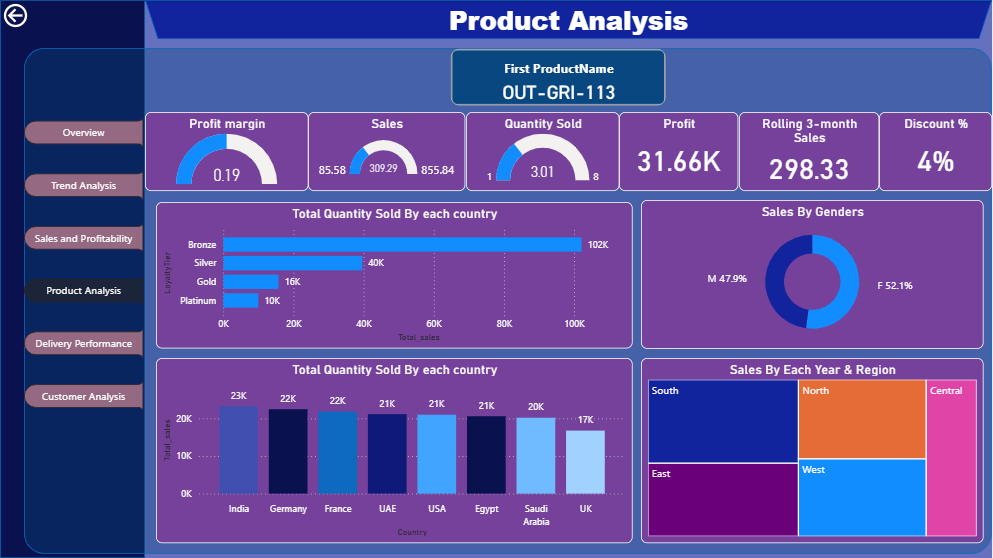

This screenshot's page, from the dashboard's own definition file:
{"tool":"powerbi","page":{"name":"Product Analysis","canvas":[1280,720],"ordinal":3},"visuals":[{"type":"shape","box":[0,0,187.1,720.2],"z":0},{"type":"shape","box":[31.4,61.3,1248.6,652.6],"z":1000},{"type":"pageNavigator","box":[31.4,141.5,154.1,402.6],"z":2000},{"type":"gauge","title":"Profit margin","fields":{"Y":["Measure.Profit_margin"]},"box":[187.1,144.7,210.7,102.2],"z":3000},{"type":"columnChart","title":"Total Quantity Sold By each country","fields":{"Category":["DimGeography.Country"],"Y":["Measure.Total_quantity"]},"box":[201.3,462.3,614.8,239],"z":4000},{"type":"treemap","title":"Sales By Each Year & Region","fields":{"Values":["select","Measure.Total_sales"],"Group":["DimGeography.Region"]},"box":[827.1,462.3,441.9,239],"z":5000},{"type":"shape","box":[187.1,0,1092.9,50.3],"z":6000},{"type":"cardVisual","title":"Drill through Prodcuct","fields":{"Data":["Min(DimProduct.ProductName)"]},"box":[577.1,58.2,287.8,83.3],"z":7000},{"type":"actionButton","box":[0,0,100,40],"z":8000},{"type":"gauge","title":"Quantity Sold","fields":{"MinValue":["Min(FactSales.Quantity)"],"MaxValue":["Max(FactSales.Quantity)1"],"Y":["Avg(FactSales.Quantity)2"]},"box":[600.7,144.7,198.1,102.2],"z":9000},{"type":"gauge","title":"Sales","fields":{"MinValue":["Min(FactSales.SalesAmount)"],"MaxValue":["Max(FactSales.SalesAmount)1"],"Y":["Avg(FactSales.SalesAmount)2"]},"box":[397.8,144.7,202.9,102.2],"z":10000},{"type":"card","title":"Rolling 3-month Sales","fields":{"Values":["Measure.Rolling_3-Month_Avg_Sales"]},"box":[952.9,144.7,180.8,102.2],"z":11000},{"type":"donutChart","title":"Sales By Genders","fields":{"Y":["Measure.Total_sales"],"Category":["DimCustomer.Gender"]},"box":[827.1,257.9,441.9,191.8],"z":12000},{"type":"card","title":"Profit","fields":{"Values":["Measure.Total_profit"]},"box":[798.8,144.7,154.1,102.2],"z":13000},{"type":"barChart","title":"Total Sales By each Loyalty Tier","fields":{"Category":["DimCustomer.LoyaltyTier"],"Y":["Measure.Total_sales"]},"box":[201.3,261,614.8,188.7],"z":14000},{"type":"card","title":"Discount %","fields":{"Values":["Avg(FactSales.Discount)"]},"box":[1133.8,144.7,146.2,102.2],"z":15000}]}

Visuals, with their boxes in screenshot pixels (x1, y1, x2, y2), scaled from the page's 1280x720 canvas onto the 993x558 screenshot:
shape: left=0, top=0, right=145, bottom=557
shape: left=24, top=48, right=992, bottom=553
pageNavigator: left=24, top=110, right=144, bottom=422
"Profit margin" gauge: left=145, top=112, right=309, bottom=191
"Total Quantity Sold By each country" columnChart: left=156, top=358, right=633, bottom=544
"Sales By Each Year & Region" treemap: left=642, top=358, right=984, bottom=544
shape: left=145, top=0, right=992, bottom=39
"Drill through Prodcuct" cardVisual: left=448, top=45, right=671, bottom=110
actionButton: left=0, top=0, right=78, bottom=31
"Quantity Sold" gauge: left=466, top=112, right=620, bottom=191
"Sales" gauge: left=309, top=112, right=466, bottom=191
"Rolling 3-month Sales" card: left=739, top=112, right=880, bottom=191
"Sales By Genders" donutChart: left=642, top=200, right=984, bottom=349
"Profit" card: left=620, top=112, right=739, bottom=191
"Total Sales By each Loyalty Tier" barChart: left=156, top=202, right=633, bottom=349
"Discount %" card: left=880, top=112, right=992, bottom=191
